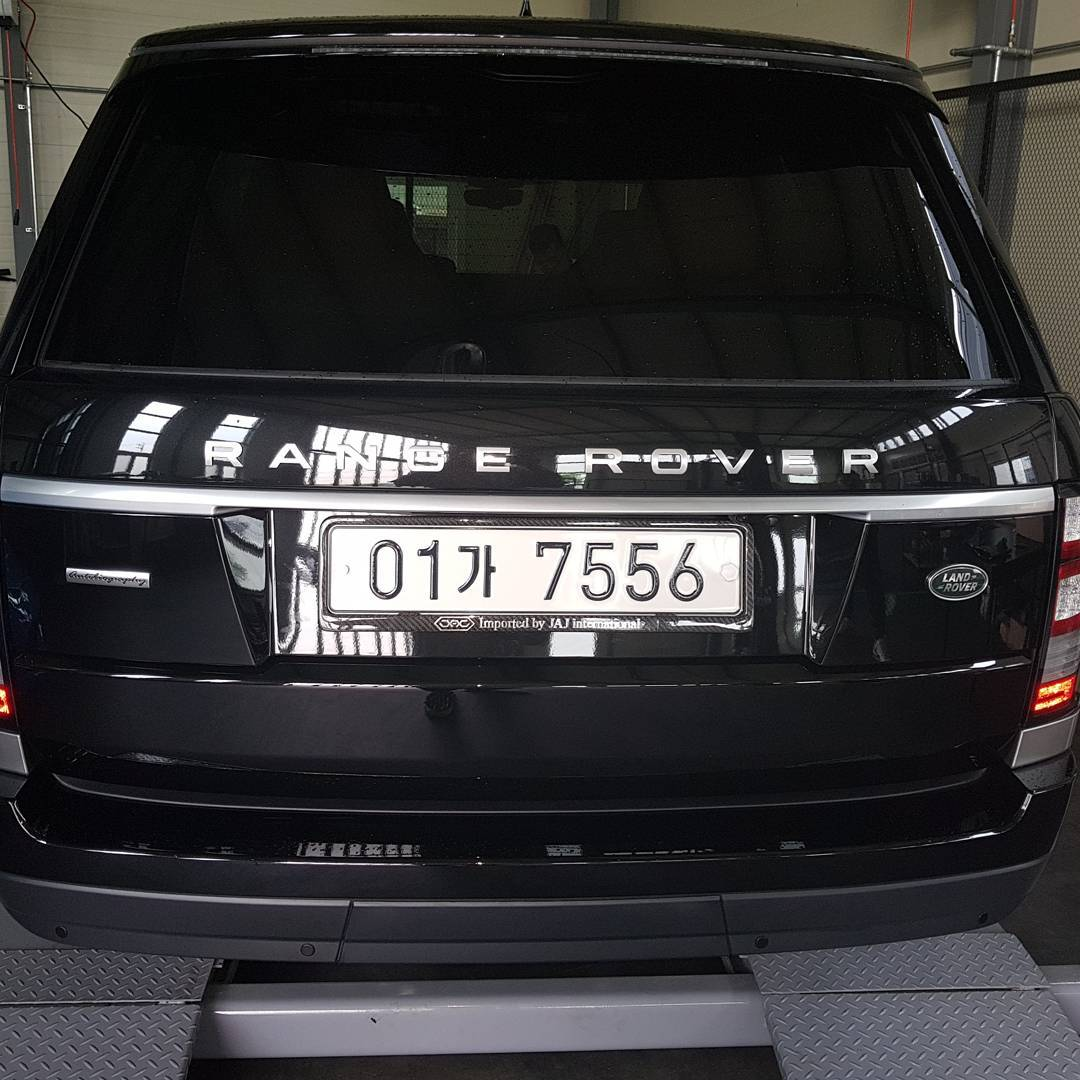plate: (330, 530, 741, 614)
